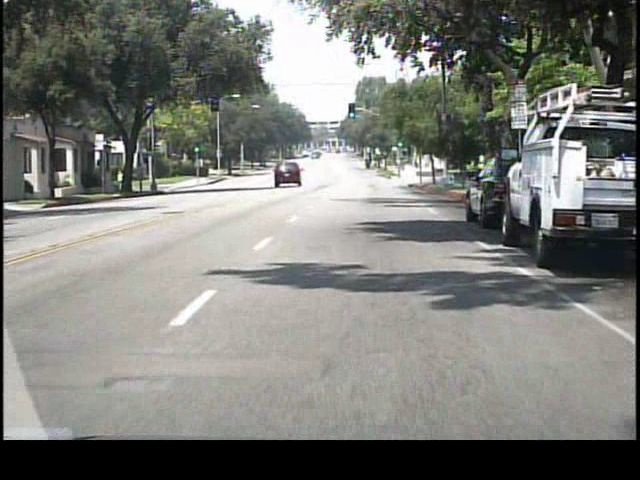person: (120, 170, 127, 192)
